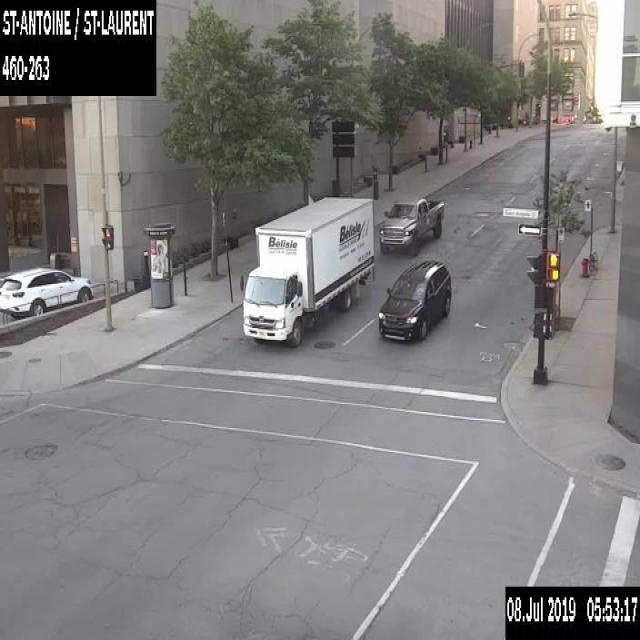vehicle: (239, 196, 374, 346), (377, 258, 451, 343), (0, 266, 93, 318), (378, 196, 443, 254)
